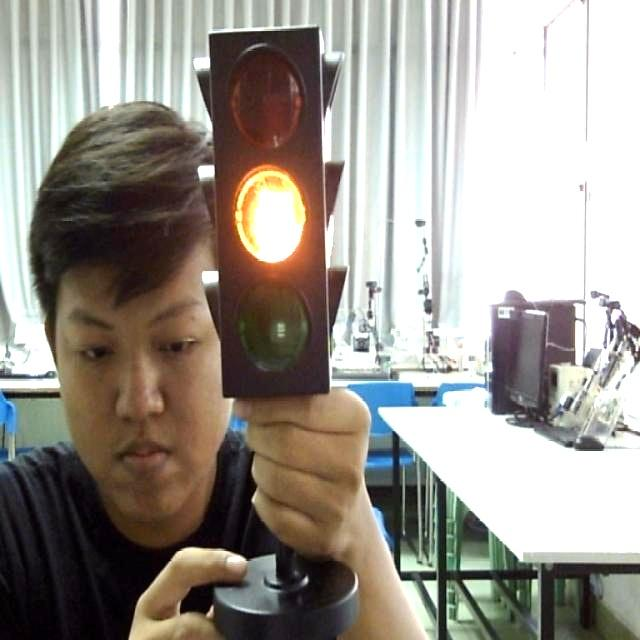Yellow: (197, 21, 362, 398)
